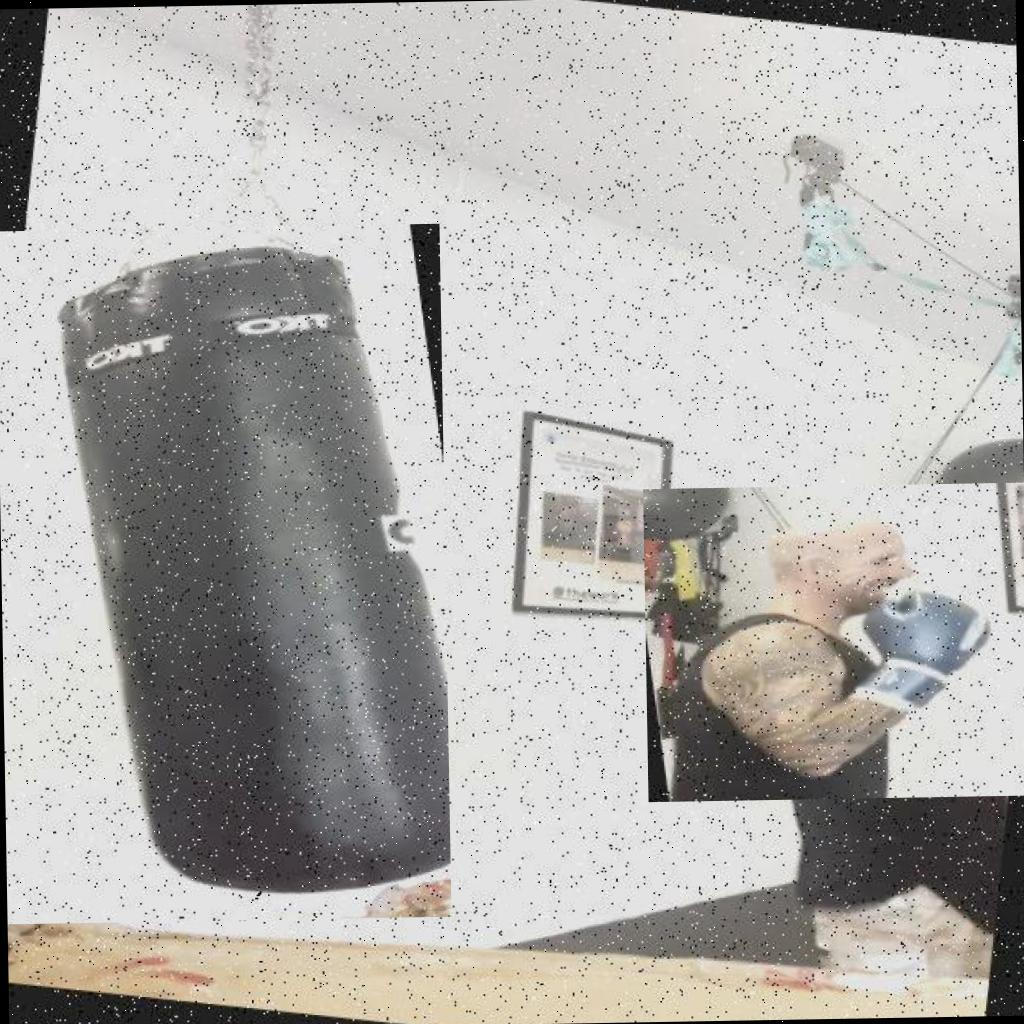bag: (0, 223, 451, 924)
no punch: (643, 482, 1024, 801)
